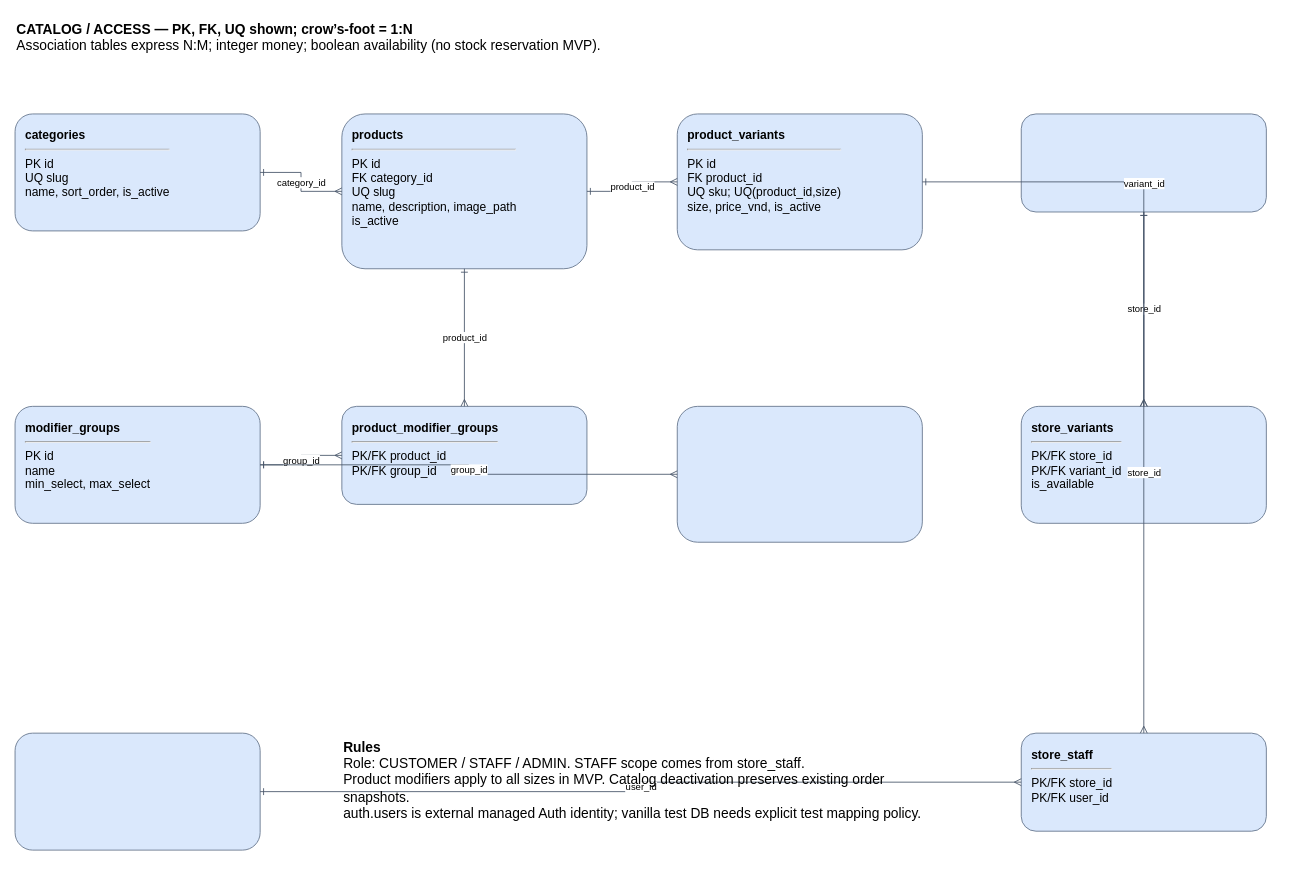
This 1303x885 diagram has some shape labels left out. Each missing label, with the centre of its shape:
modifier_options PK id FK group_id name, extra_price_vnd is_active: the point at 799,473
profiles PK/FK id → auth.users full_name, phone role, is_active: the point at 137,791
stores PK id; UQ code name, address, is_active: the point at 1143,162
